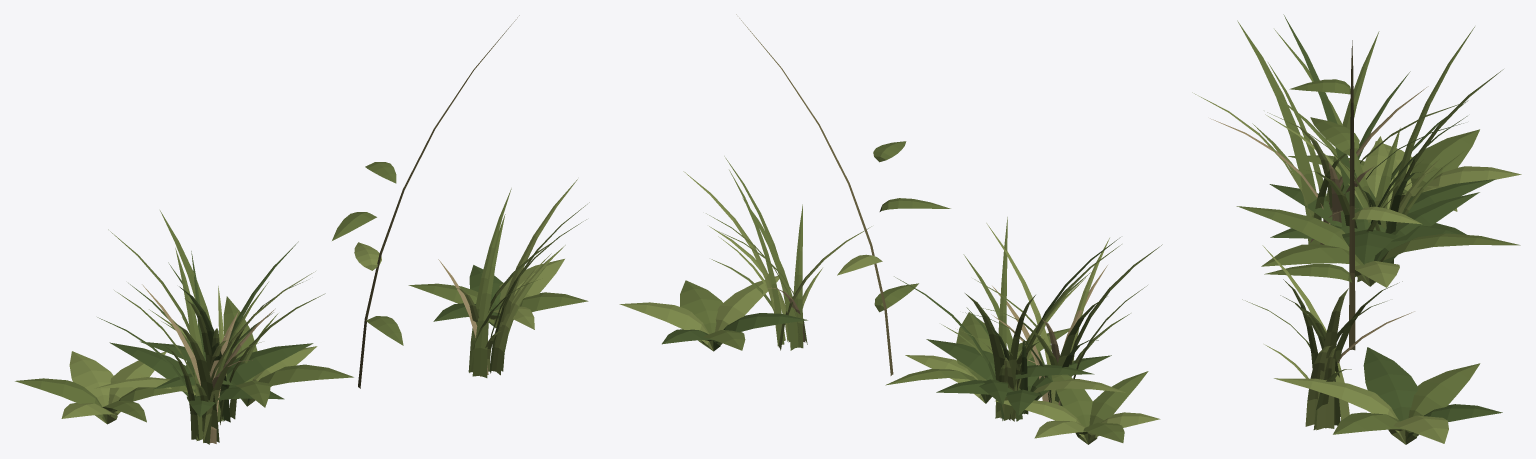
Rendered from WallWeeds_2.fbx.
3 renders of one model, left to right at view 1: azimuth 30°, elevation 25°; view 2: azimuth 150°, elevation 25°; view 3: azimuth 270°, elevation 25°, orthographic. The views are drawn at different scales.
Parts seen in each view (by area): view 1: WallWeeds_2; view 2: WallWeeds_2; view 3: WallWeeds_2.
Boxes of the visible parts, x1,y1,x2,y2 form: WallWeeds_2: [15, 15, 589, 444]; WallWeeds_2: [619, 14, 1162, 444]; WallWeeds_2: [1192, 14, 1521, 444].
Size of the model in its own units: 83 by 50 by 36.42.
